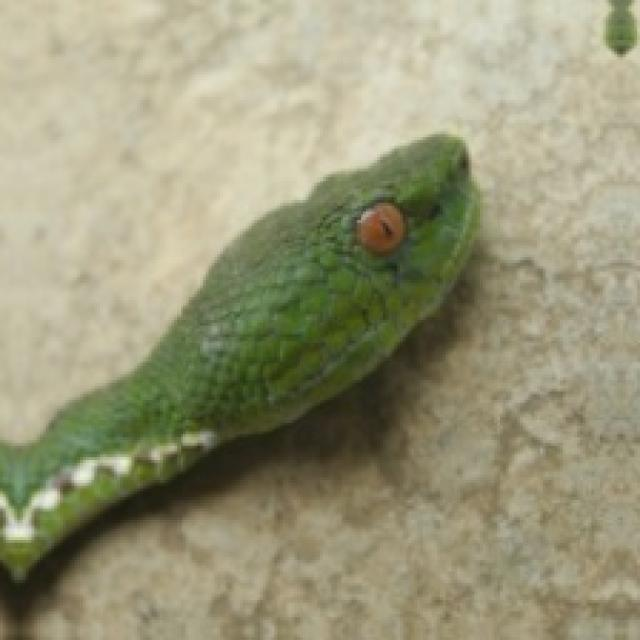philippine pitviper: (0, 134, 477, 580)
